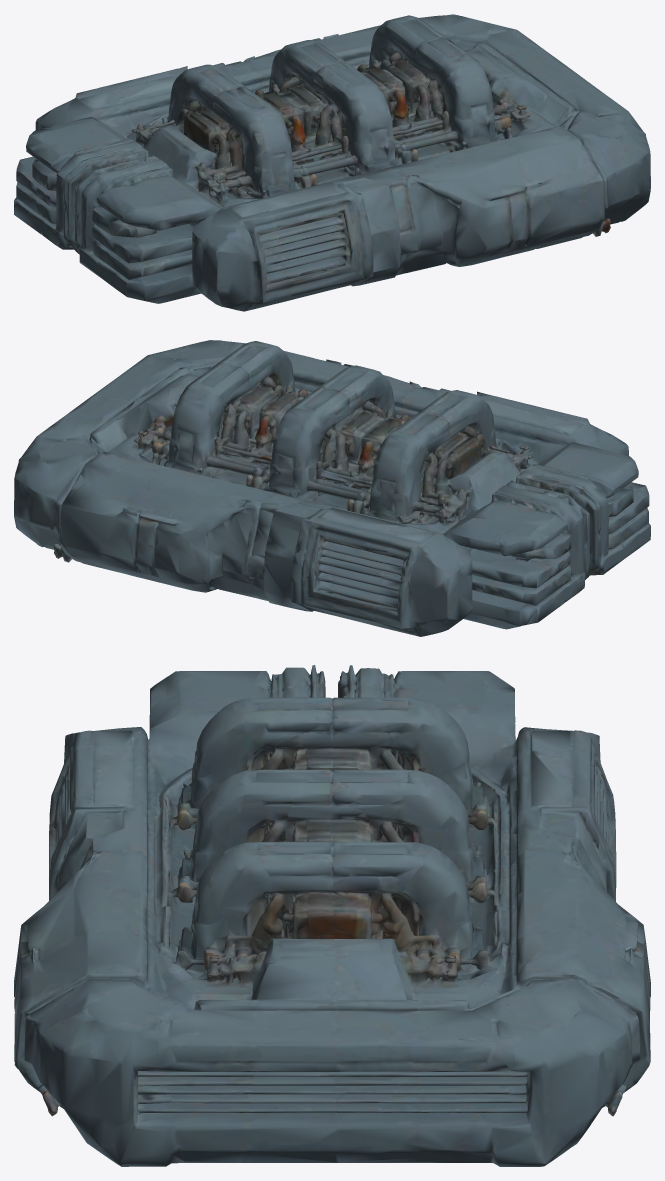
The picture shows the model from 3 angles, top to bottom: view 1: azimuth 30°, elevation 25°; view 2: azimuth 150°, elevation 25°; view 3: azimuth 270°, elevation 25°; orthographic projection. The views are drawn at different scales.
Parts seen in each view (by area): view 1: chassis; view 2: chassis; view 3: chassis.
Part boxes in pixels (x1=…): chassis: x1=14, y1=14, x2=650, y2=311; chassis: x1=14, y1=340, x2=650, y2=636; chassis: x1=14, y1=665, x2=650, y2=1166.
Size of the model in its own units: 0.9897 by 0.2736 by 0.7291.
1 material, 1 textured.
